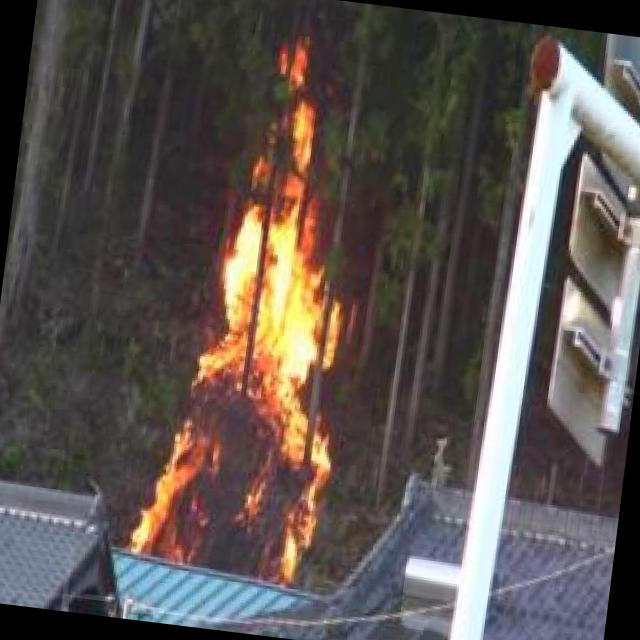Fire: (132, 93, 374, 582), (266, 28, 324, 97)
